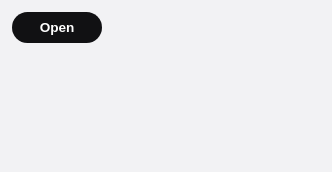
Test: LaunchButton Component & Execution Layer › LaunchButton Timer & State Recovery Lifecycle › cancels pending reset timer when user initiates a new launch attempt
Later steps or results of the test are not shown.
// First launch
Click the button with aria-label "open application app_multilaunch" at [57, 28], box x1=12 y1=12 x2=102 y2=43
Wait 1000 ms
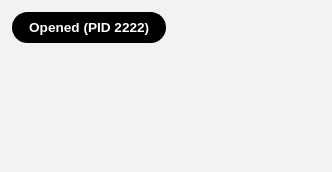
Check: the button with aria-label "open application app_multilaunch" reads "Opened (PID 2222)"
Click the button with aria-label "open application app_multilaunch" at [89, 28], box x1=12 y1=12 x2=166 y2=43
Wait 3000 ms
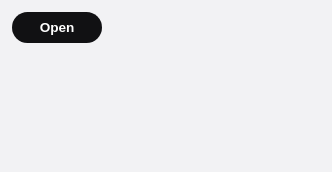
Check: the button with aria-label "open application app_multilaunch" reads "Open", box x1=12 y1=12 x2=102 y2=43
